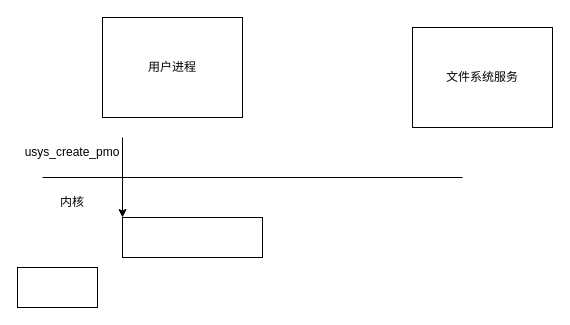
This 570x325 diagram has some shape labels left out. The centre of each missing label's shape, as x and y in pixels:
"PMO_USER_FAULT" belongs at pixel 192 237.
"VMR" belongs at pixel 57 287.
